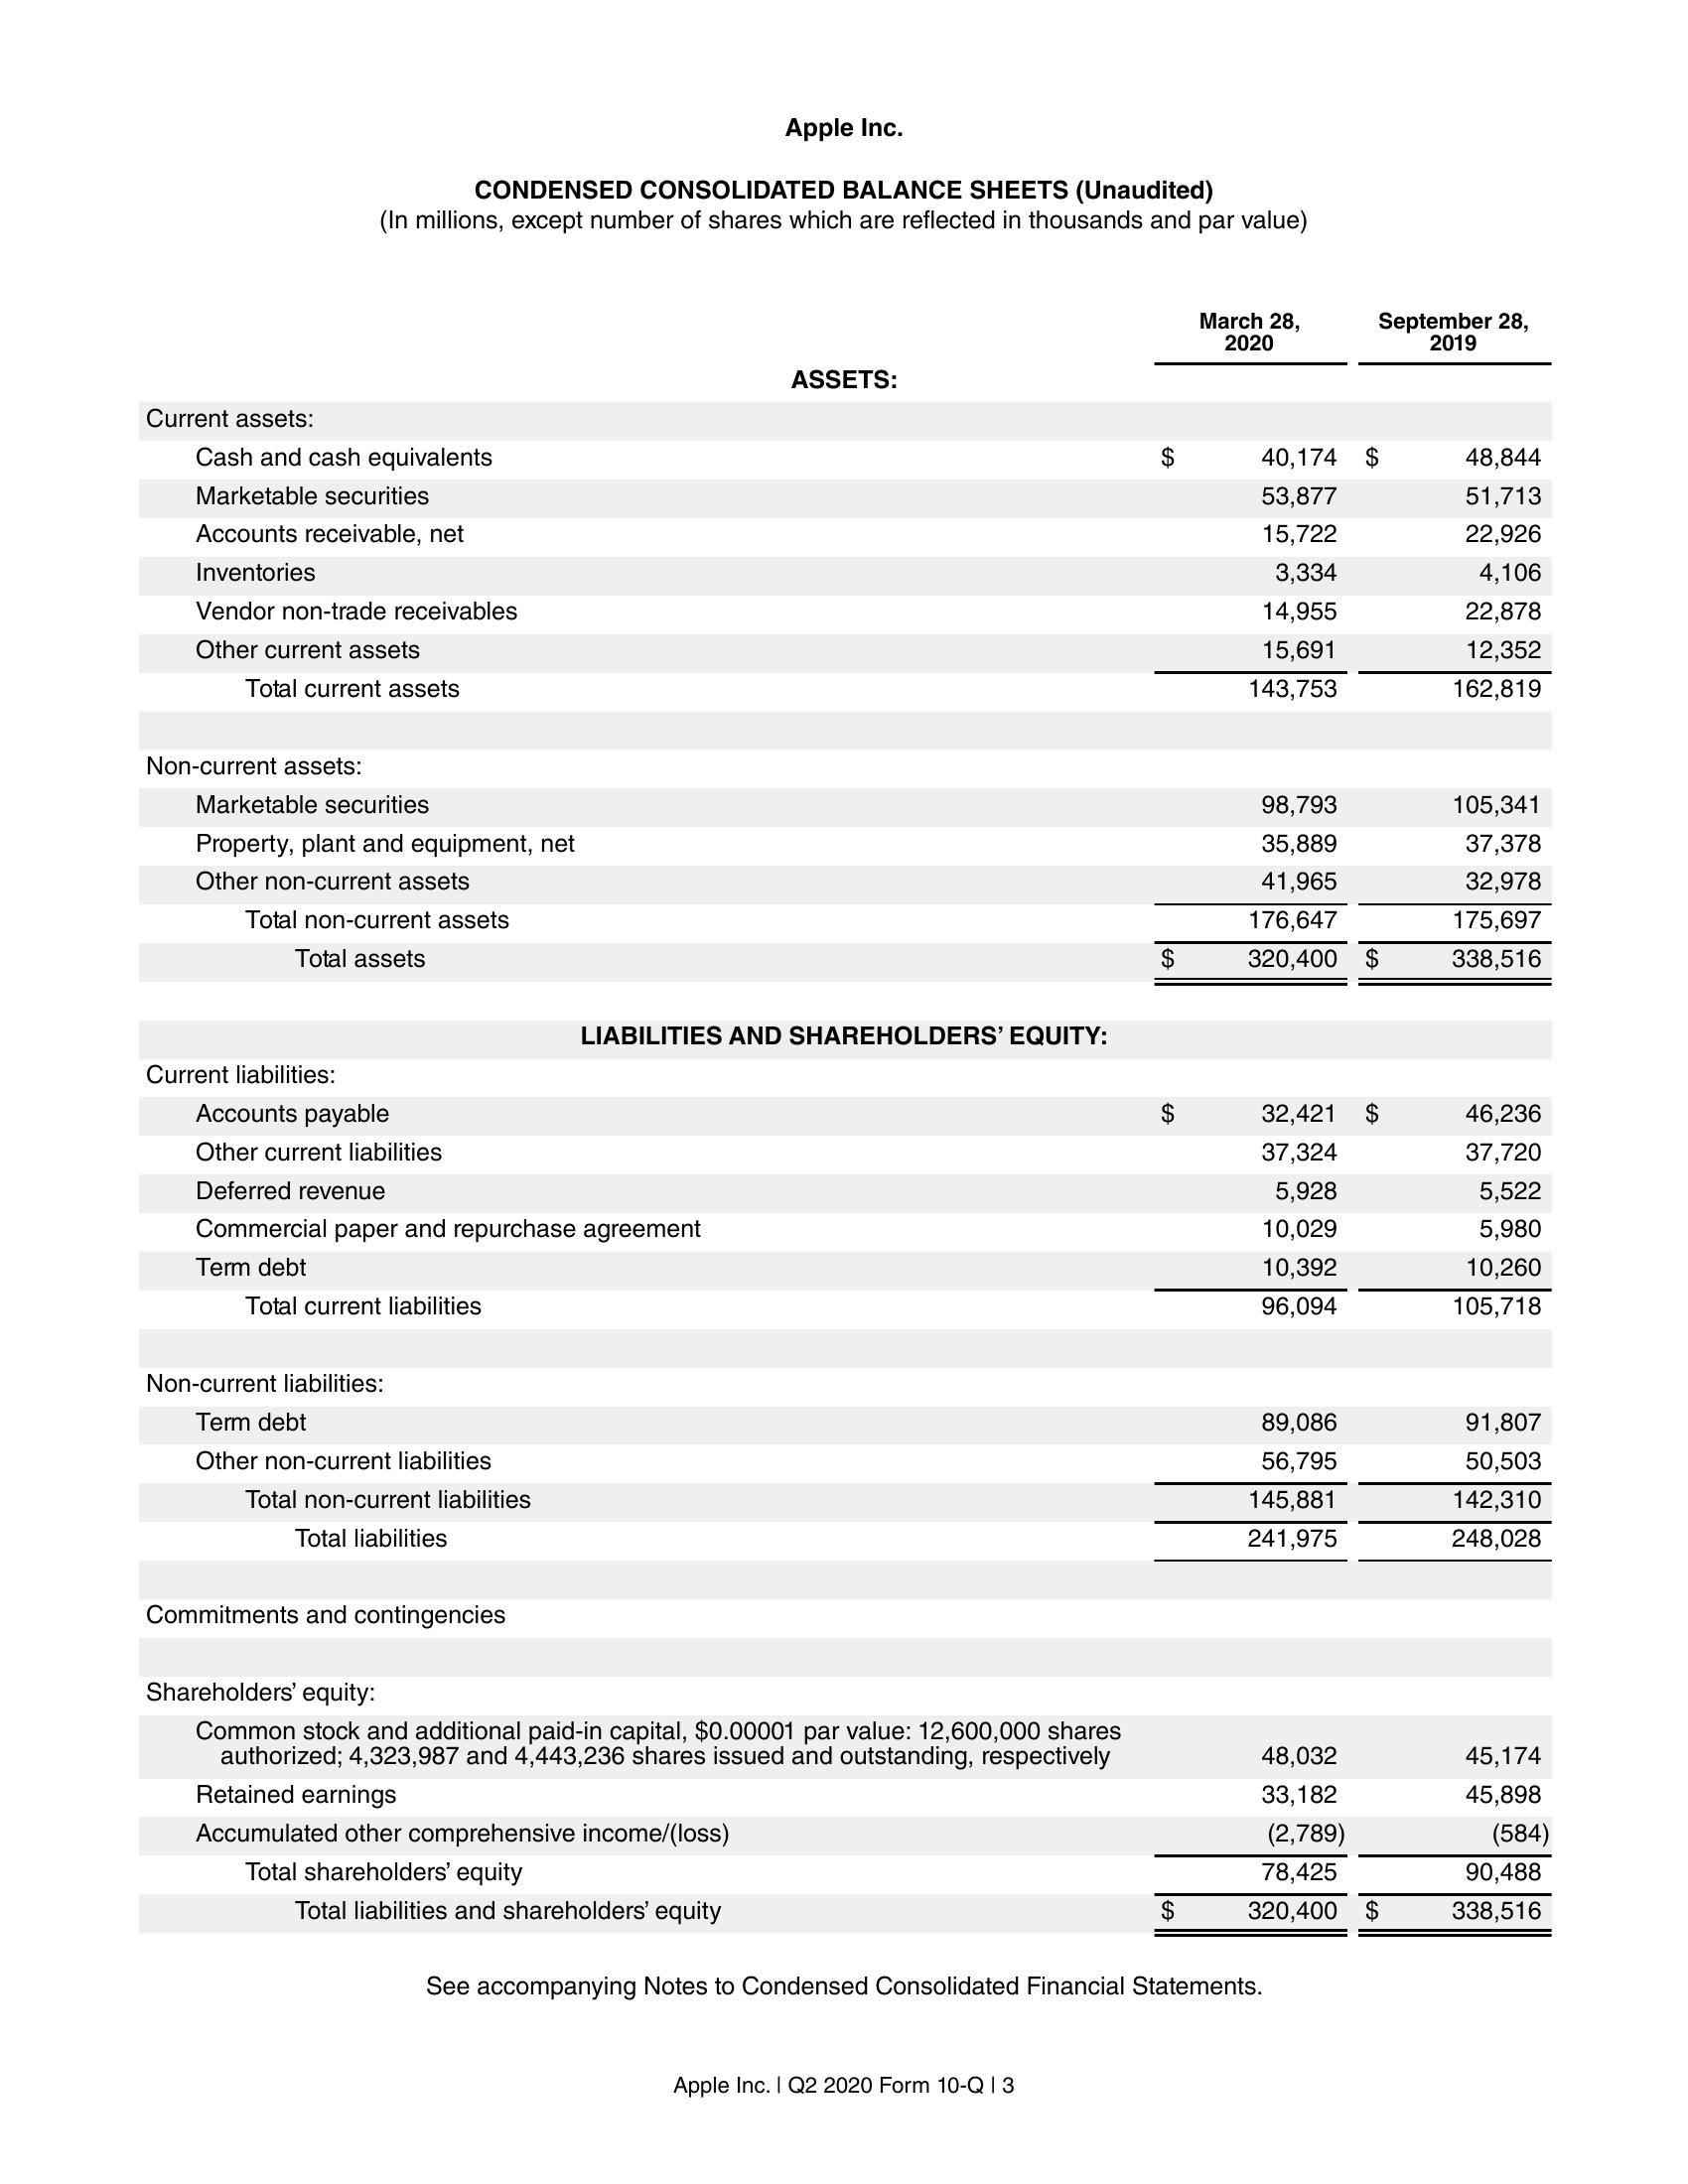table: (128, 310, 1557, 1943)
